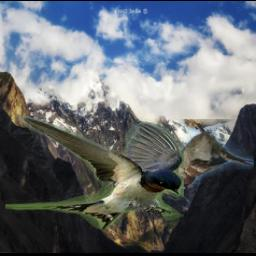Sparrow: (172, 119, 254, 184)
Swallow: (5, 115, 184, 230)
